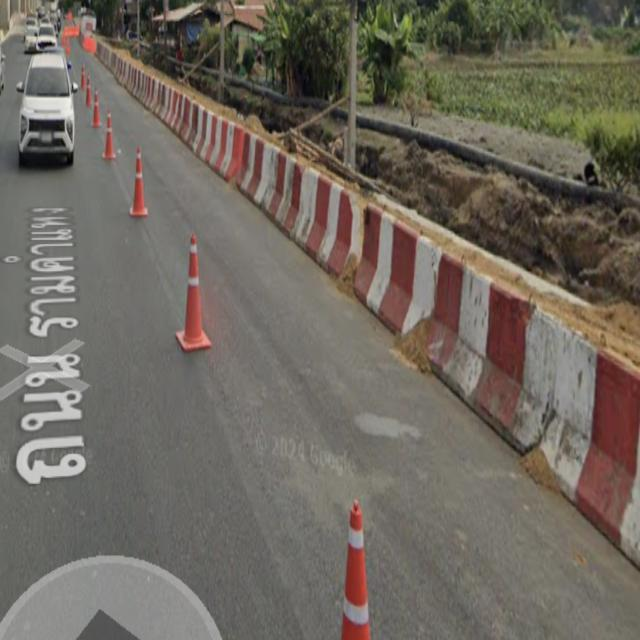fallen_object: (407, 220, 640, 539), (313, 176, 475, 365), (205, 99, 361, 263), (320, 509, 397, 640), (129, 67, 232, 153), (166, 220, 227, 357), (69, 60, 128, 180), (119, 143, 158, 224), (95, 32, 150, 87)
